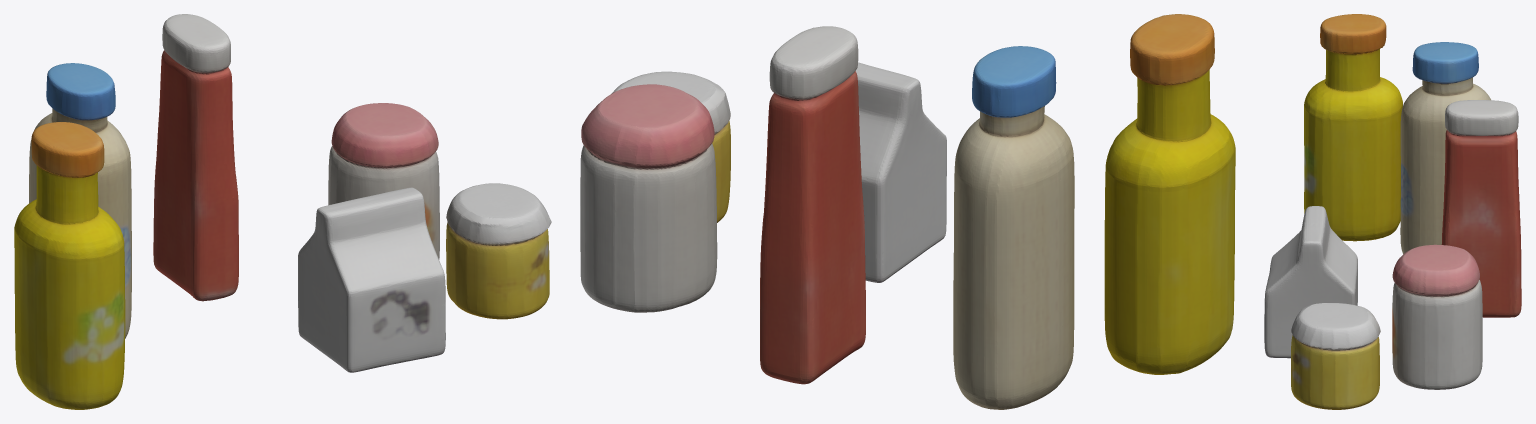
The model's file is stream3d.glb.
3 views of the same model, side by side, from view 1: azimuth 30°, elevation 25°; view 2: azimuth 150°, elevation 25°; view 3: azimuth 270°, elevation 25° (orthographic). The views are drawn at different scales.
Parts seen in each view (by area): view 1: world; view 2: world; view 3: world.
Boxes of the visible parts, x1=… form: world: x1=14, y1=14, x2=551, y2=409; world: x1=580, y1=14, x2=1235, y2=409; world: x1=1264, y1=14, x2=1521, y2=409.
Bounding box in the file's own units: 1 × 0.4925 × 0.5484.
